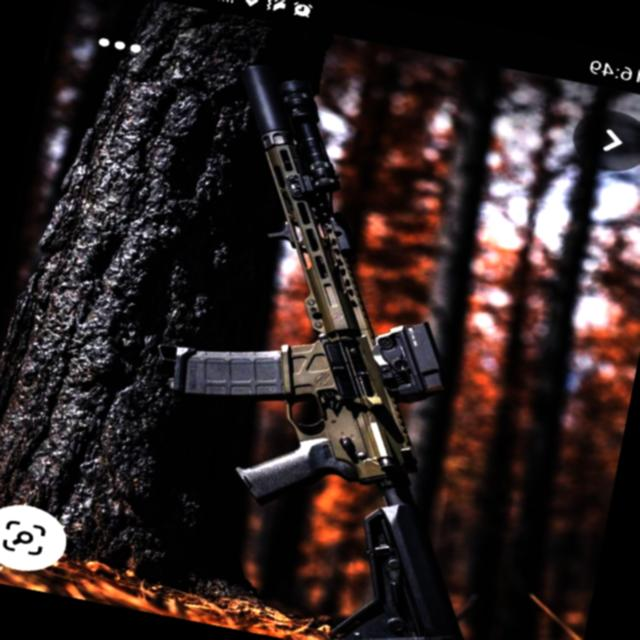m16: (107, 14, 586, 640)
